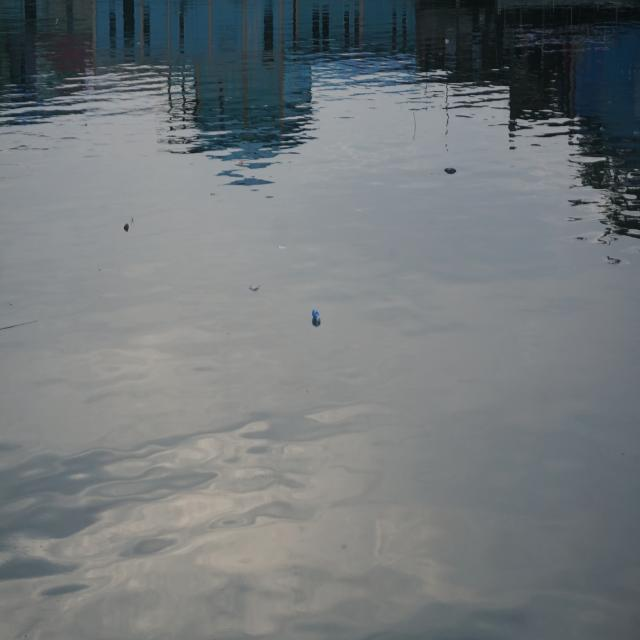Botol Plastik: (310, 305, 326, 334)
